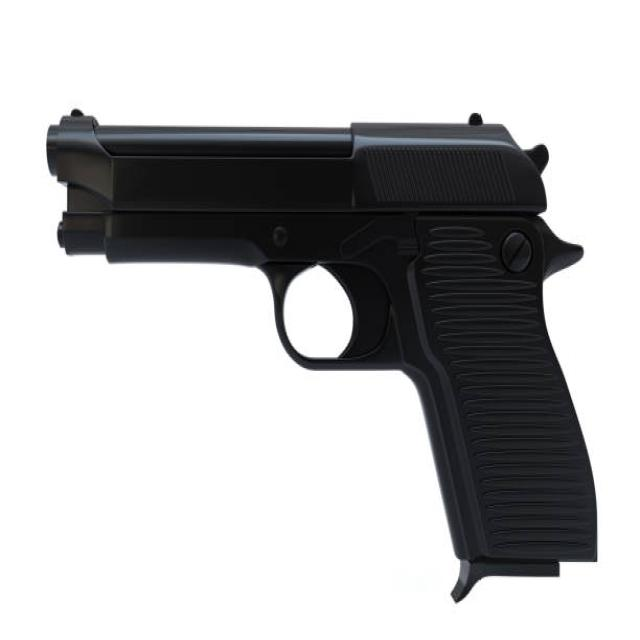pistol: (39, 102, 609, 606)
